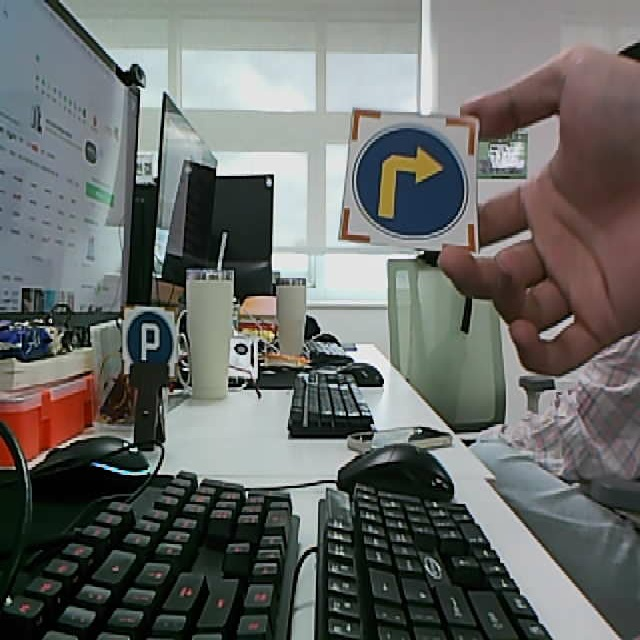right: (340, 106, 478, 255)
